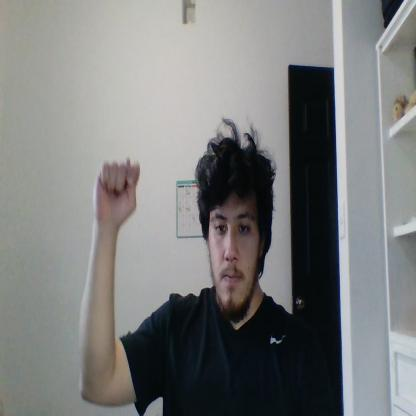T: (92, 158, 140, 224)
